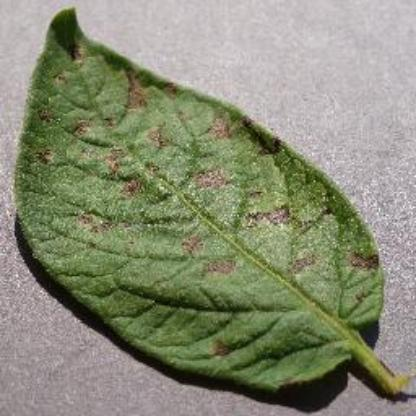Early-Blight: (14, 6, 412, 402)
